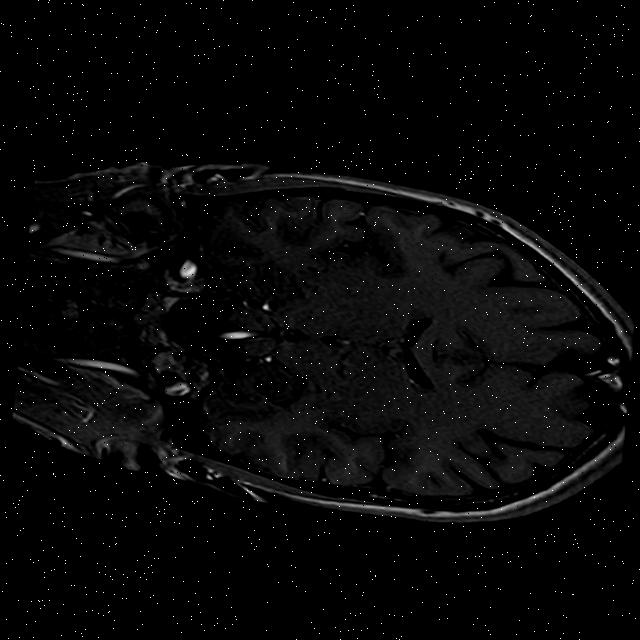NoTumor: (151, 147, 640, 559)
